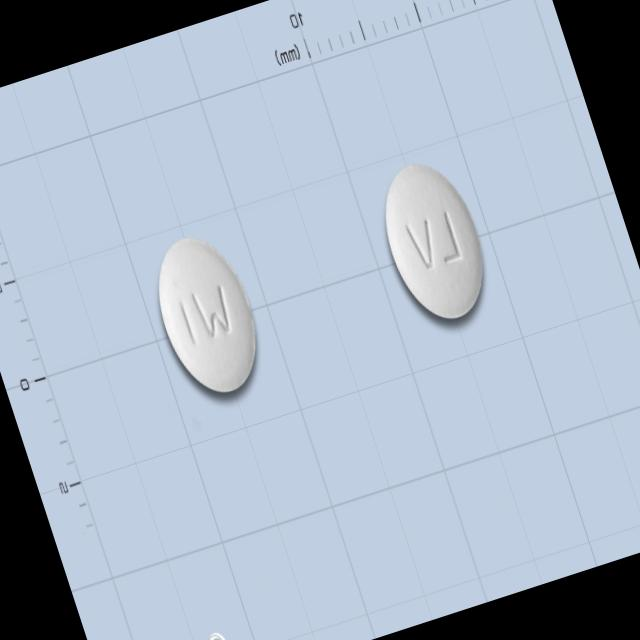Whanin Levofloxacin Tab: (138, 225, 275, 407), (366, 150, 500, 332)
